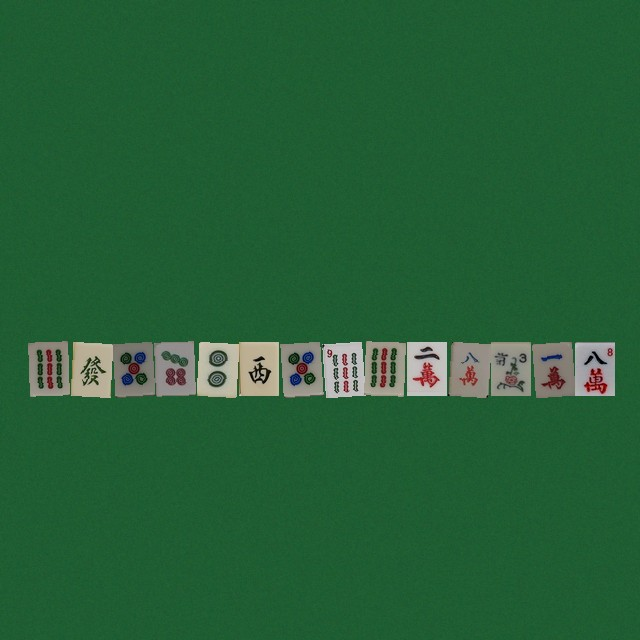tile: (28, 341, 68, 395), (70, 341, 110, 395), (112, 341, 152, 395), (154, 341, 194, 395), (196, 341, 236, 395), (238, 341, 278, 395), (280, 341, 320, 395), (322, 341, 362, 395), (364, 341, 404, 395), (406, 341, 446, 395), (448, 341, 488, 395), (490, 341, 530, 395), (532, 341, 572, 395), (574, 341, 614, 395)
